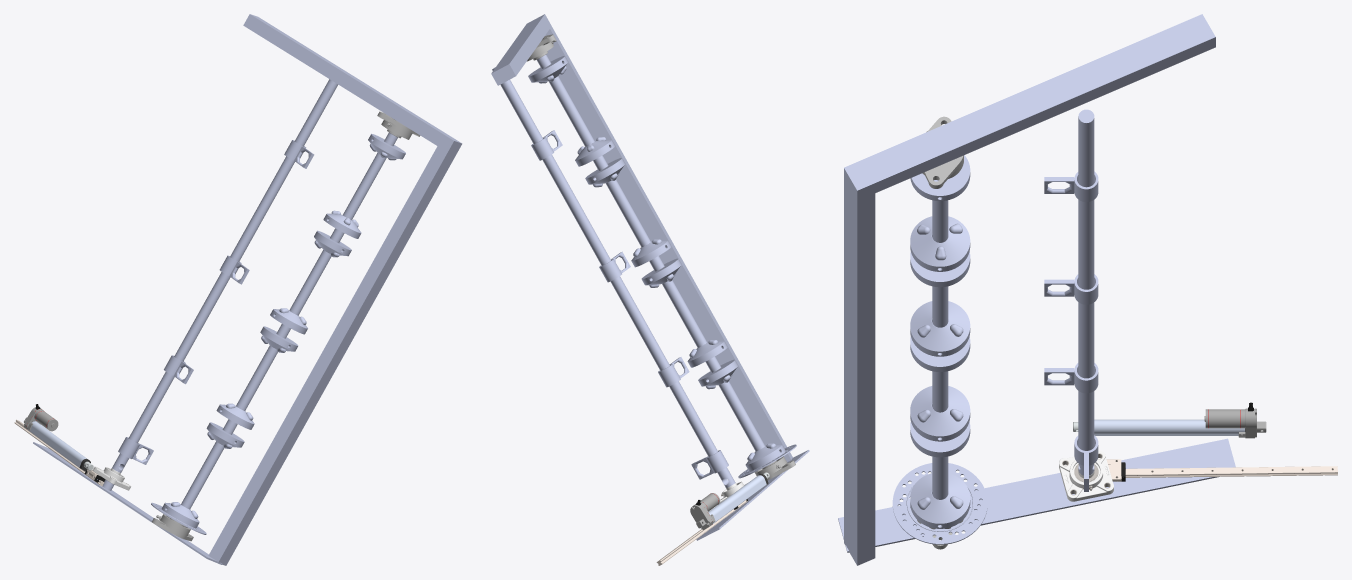
File: modelo.glb
3 renders of one model, left to right at view 1: azimuth 30°, elevation 25°; view 2: azimuth 150°, elevation 25°; view 3: azimuth 270°, elevation 25°, orthographic. The views are drawn at different scales.
Parts seen in each view (by area): view 1: BarraL-1, EjeTension-1, P4.1-1, Base-1, P2-3, P3-1, P1-2, Cilindro-1, Cono-5, Cono-3, Cono-4, Cono-6 (+1 smaller); view 2: BarraL-1, EjeTension-1, P4.1-1, P1-2, P2-3, P3-1, Cilindro-1, Sujetador-1, Cono-5, Cono-4, Cono-2, Cono-3 (+11 smaller); view 3: BarraL-1, Base-1, EjeTension-1, activa 190mm disc-1, Cono-4, Cono-3, Cono-2, Cono-5, Cilindro-1, Trilho_TBI_15-1, CHUMACERA 1IN DE PARED-1, Sujetador-1 (+12 smaller).
Part boxes in pixels (x1,y1,x2,y2): BarraL-1: (208, 14, 462, 565); EjeTension-1: (102, 79, 337, 490); P4.1-1: (181, 419, 237, 509); Base-1: (33, 442, 222, 564); P2-3: (236, 324, 290, 410); P3-1: (289, 228, 344, 315); P1-2: (343, 132, 397, 220); Cilindro-1: (28, 421, 90, 471); Cono-5: (323, 210, 361, 238); Cono-3: (216, 403, 254, 429); Cono-4: (270, 308, 307, 334); Cono-6: (314, 230, 351, 257); BarraL-1: (491, 14, 792, 461); EjeTension-1: (492, 67, 735, 487); P4.1-1: (705, 356, 764, 451); P1-2: (537, 54, 594, 146); P2-3: (649, 256, 707, 347); P3-1: (593, 155, 650, 247); Cilindro-1: (708, 474, 768, 523); Sujetador-1: (690, 493, 719, 529); Cono-5: (575, 137, 614, 166); Cono-4: (631, 239, 671, 267); Cono-2: (745, 443, 785, 471); Cono-3: (687, 339, 727, 367); BarraL-1: (844, 14, 1215, 565); Base-1: (838, 438, 1235, 552); EjeTension-1: (1078, 109, 1094, 475); activa 190mm disc-1: (892, 463, 987, 544); Cono-4: (910, 301, 970, 356); Cono-3: (910, 386, 970, 441); Cono-2: (910, 473, 970, 528); Cono-5: (910, 216, 970, 271); Cilindro-1: (1094, 419, 1245, 435); Trilho_TBI_15-1: (1125, 466, 1337, 477); CHUMACERA 1IN DE PARED-1: (1059, 451, 1113, 501); Sujetador-1: (1204, 402, 1266, 438).
Size of the model in its own units: 1.06 by 1.44 by 0.9976.
